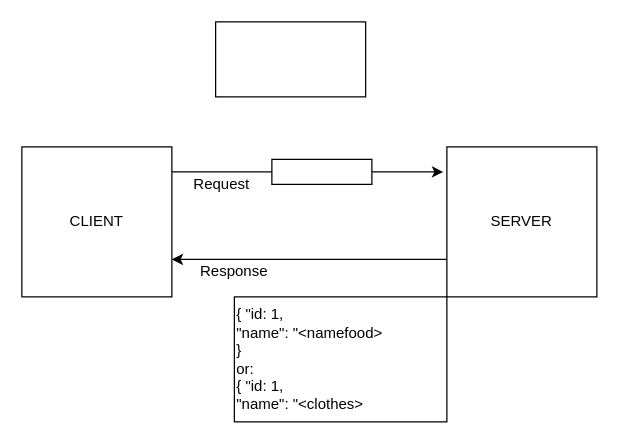
The diagram is 619 pixels wide and 444 high, and some of its shapes have lost their labels. The centre of each missing label's shape, as x and y in pixels:
Logger: (x=321, y=171)
PORT=3000 domain = "local host": (x=290, y=59)
